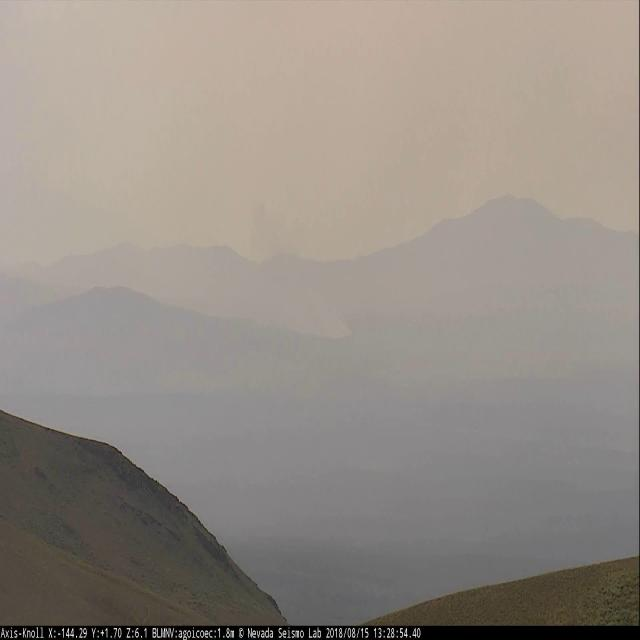smoke: (243, 162, 355, 344)
